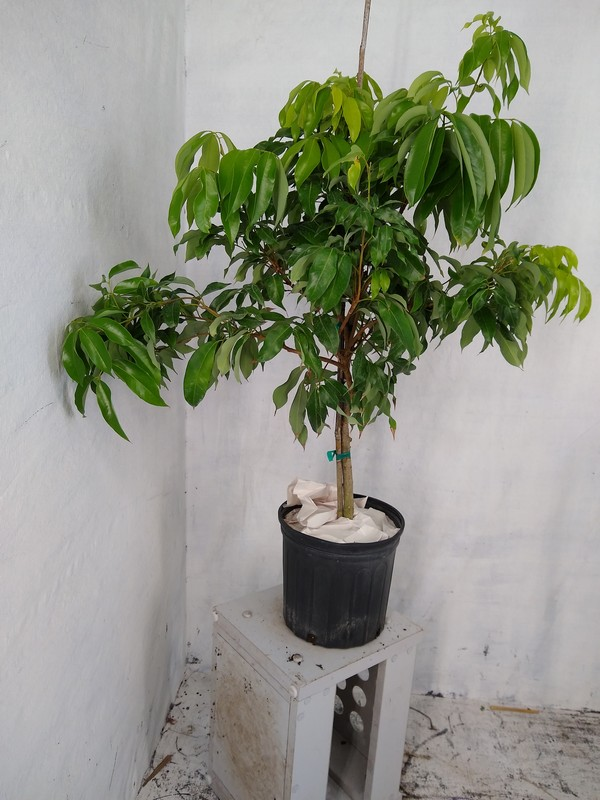plant: (61, 10, 593, 523)
pot: (275, 495, 407, 652)
